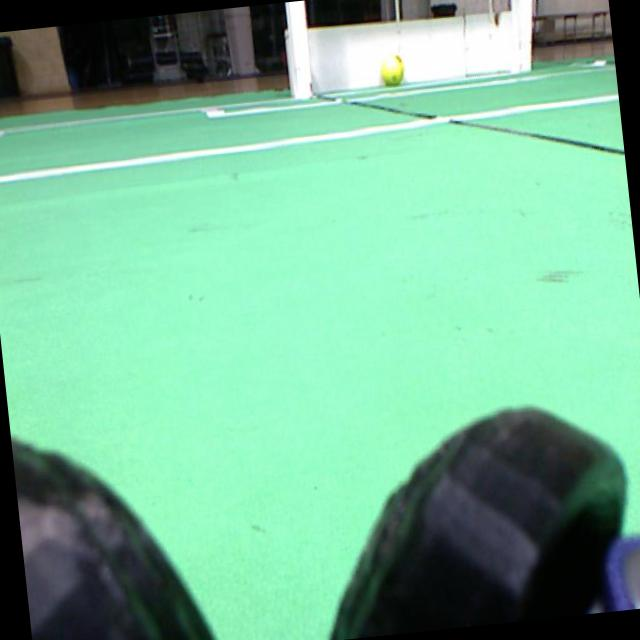ball: (380, 53, 402, 85)
goal: (285, 0, 311, 97), (510, 0, 532, 70)
